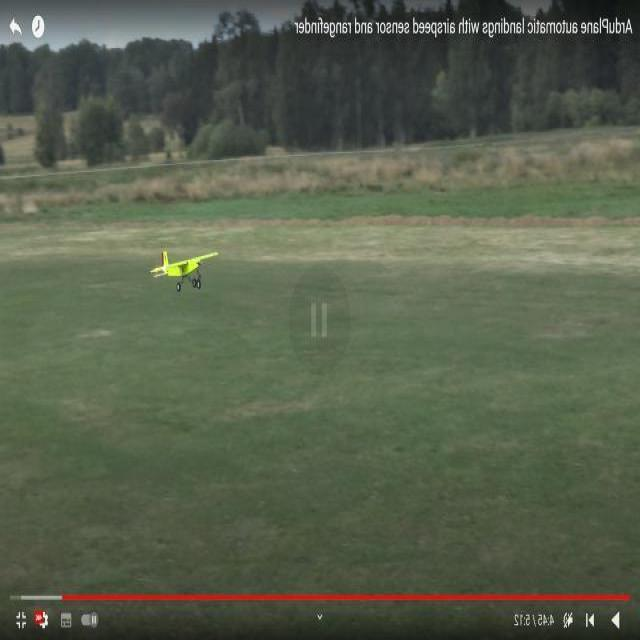iha: (182, 247, 186, 294)
